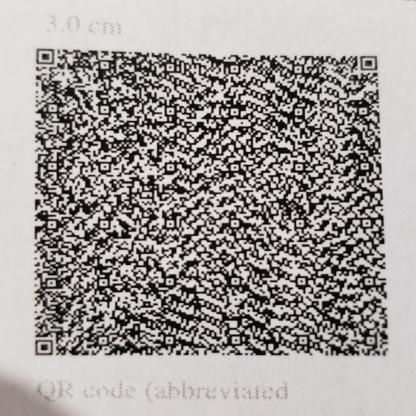qr: (30, 45, 392, 363)
